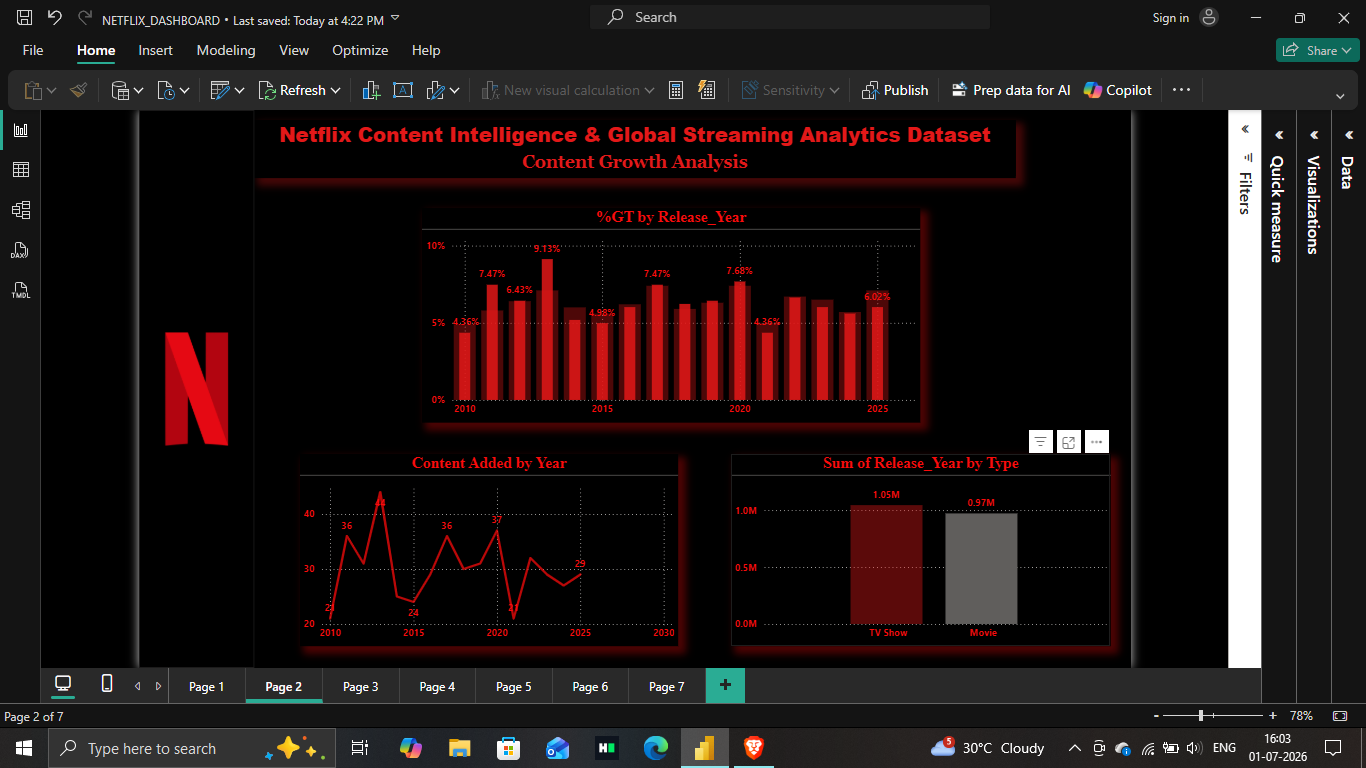

What the dashboard file says about the page in this screenshot:
{"tool":"powerbi","page":{"name":"Page 2","canvas":[1280,720],"ordinal":1},"visuals":[{"type":"textbox","title":"Netflix Content Intelligence & Global Streaming Analytics Dataset","box":[148.9,13,983.1,75.2],"z":0},{"type":"image","box":[0,0,148.8,720],"z":1000},{"type":"lineChart","title":"Content Added by Year","fields":{"Category":["Netflix_Content_Intelligence_&_Global_Streaming_Analytics_dataset.Release_Year"],"Y":["CountNonNull(Netflix_Content_Intelligence_&_Global_Streaming_Analytics_dataset.Title)"]},"box":[208.3,443.3,488.3,248.3],"z":2000},{"type":"columnChart","fields":{"Category":["Netflix_Content_Intelligence_&_Global_Streaming_Analytics_dataset.Type"],"Y":["Sum(Netflix_Content_Intelligence_&_Global_Streaming_Analytics_dataset.Release_Year)"]},"box":[763.3,443.3,490,248.3],"z":3000},{"type":"columnChart","title":"%GT  by Release_Year","fields":{"Y":["Netflix_Content_Intelligence_&_Global_Streaming_Analytics_dataset.Total Content"],"Category":["Netflix_Content_Intelligence_&_Global_Streaming_Analytics_dataset.Release_Year"]},"box":[365,126.7,643.3,276.7],"z":4000}]}

Visuals, with their boxes on the page's 1280x720 design canvas (x1, y1, x2, y2). These are canvas units, not pixel positions in the 1366x768 screenshot, which may show the page scaled, cropped or inside an application window:
"Netflix Content Intelligence & Global Streaming Analytics Dataset" textbox: l=149, t=13, r=1132, b=88
image: l=0, t=0, r=149, b=720
"Content Added by Year" lineChart: l=208, t=443, r=697, b=692
columnChart - Netflix_Content_Intelligence_&_Global_Streaming_Analytics_dataset.Type x Sum(Netflix_Content_Intelligence_&_Global_Streaming_Analytics_dataset.Release_Year): l=763, t=443, r=1253, b=692
"%GT  by Release_Year" columnChart: l=365, t=127, r=1008, b=403
